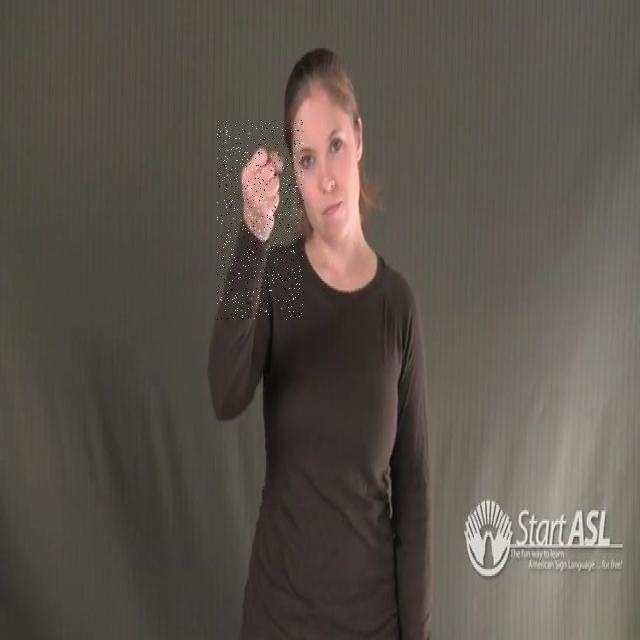milk: (217, 120, 304, 320)
